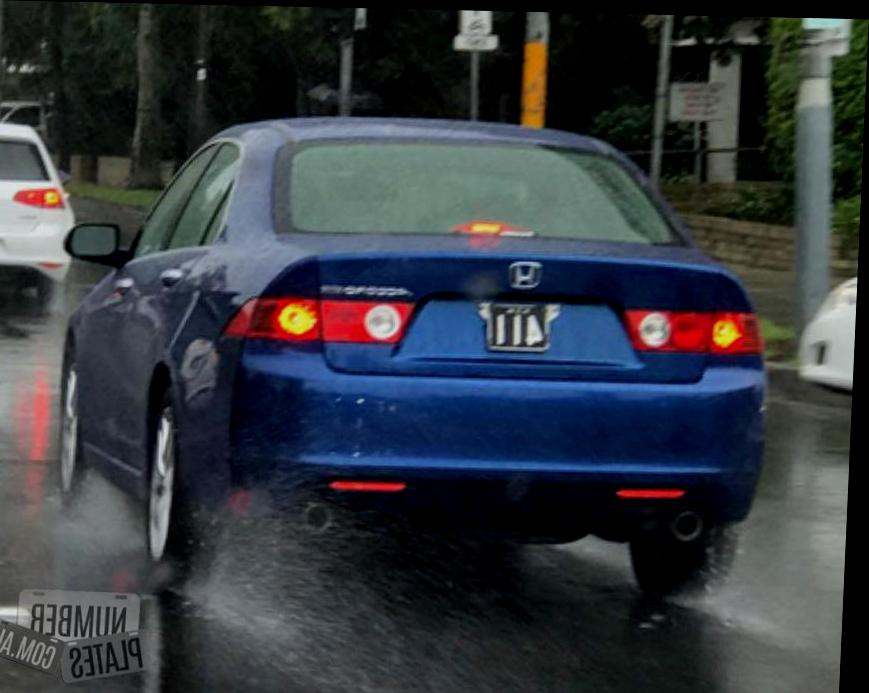License_Plate: (460, 294, 570, 365)
